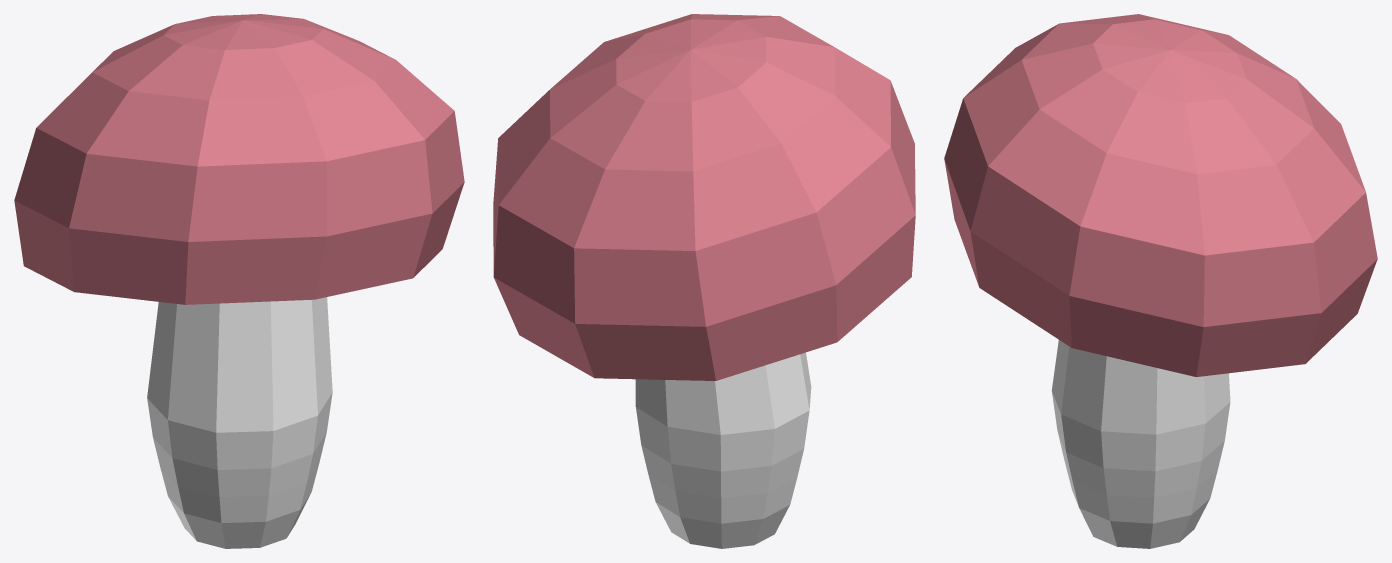
Rendered from mushroom_002_grp.fbx.
3 renders of one model, left to right at view 1: azimuth 30°, elevation 25°; view 2: azimuth 150°, elevation 25°; view 3: azimuth 270°, elevation 25°, orthographic.
Parts seen in each view (by area): view 1: mushroom_002_grp; view 2: mushroom_002_grp; view 3: mushroom_002_grp.
Boxes of the visible parts, <box> form: mushroom_002_grp: <box>14,14,464,548</box>; mushroom_002_grp: <box>493,14,915,548</box>; mushroom_002_grp: <box>944,14,1377,548</box>.
Bounding box in the file's own units: 70.63 × 86.48 × 69.66.
